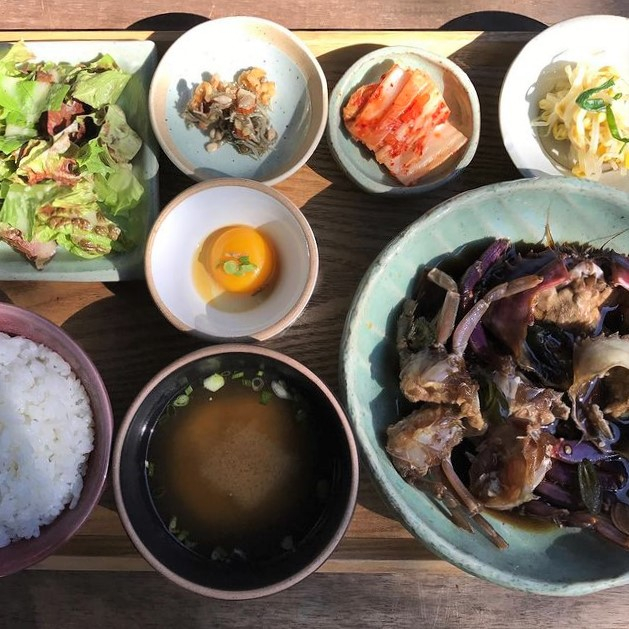ssalbab: (0, 322, 100, 554)
